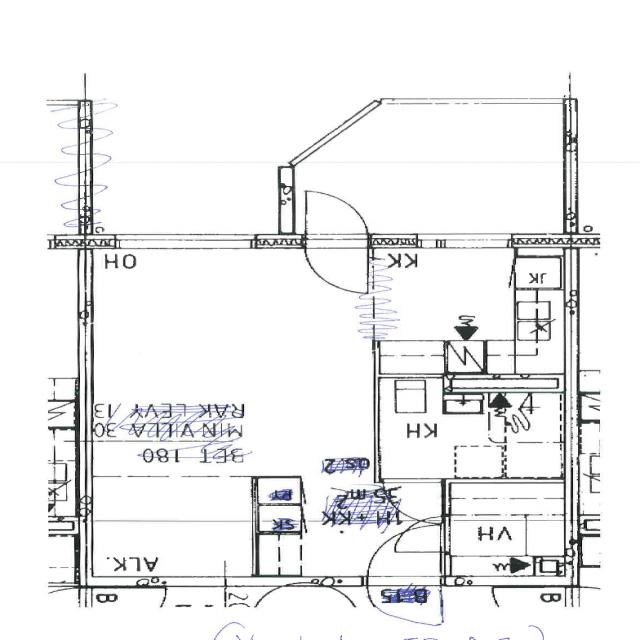door: (367, 525, 440, 586), (367, 577, 440, 637), (306, 190, 368, 248), (306, 234, 368, 292), (382, 478, 442, 524), (394, 516, 452, 552)
